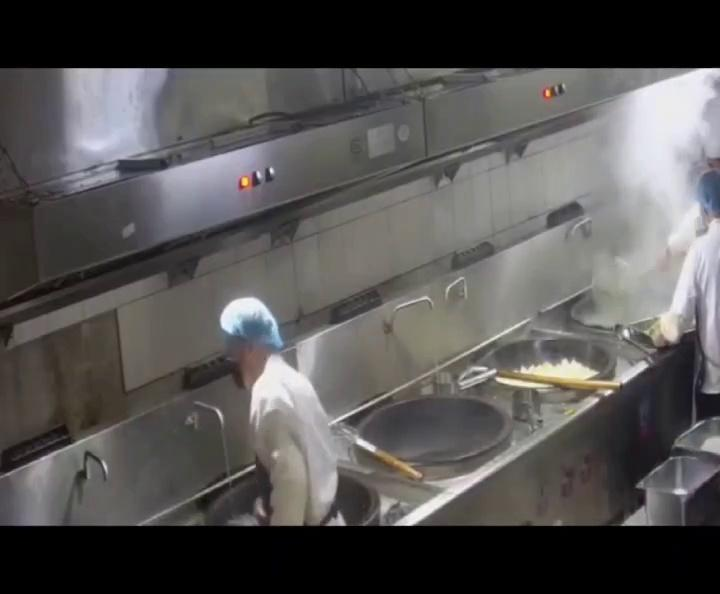gloves: (213, 295, 294, 346)
